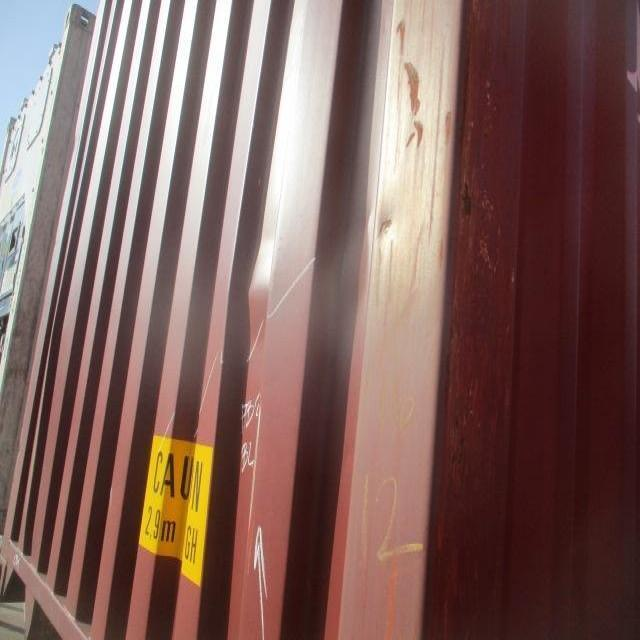Minor-Dent: (222, 215, 281, 363)
